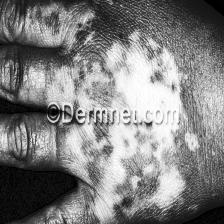Benign Marking or Mole: (108, 131, 180, 220), (104, 40, 180, 108)
